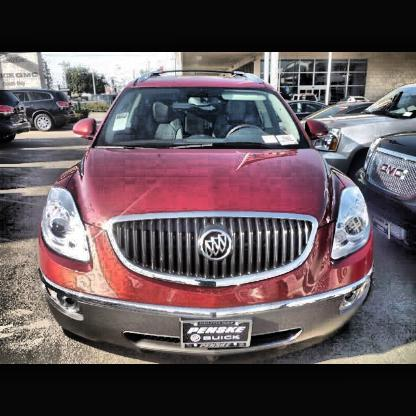Buick Enclave SUV 2012: (40, 70, 376, 365)
